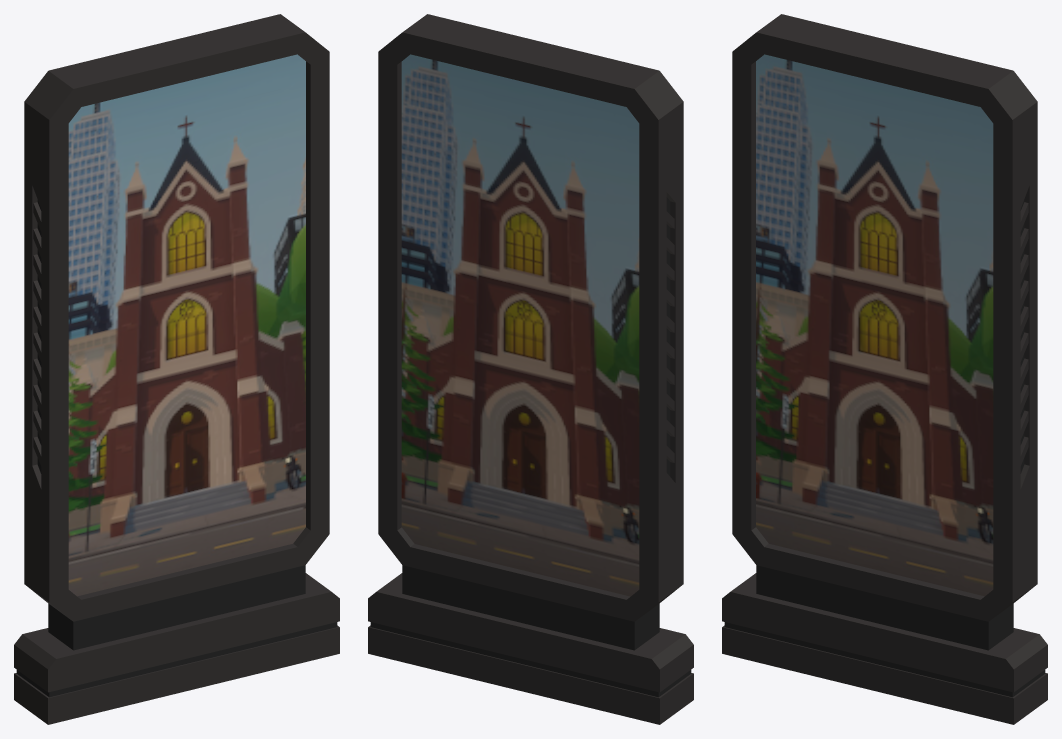
File: SM_Props_Ads_02.fbx
The picture shows the model from 3 angles, left to right: view 1: azimuth 30°, elevation 25°; view 2: azimuth 150°, elevation 25°; view 3: azimuth 330°, elevation 25°; orthographic projection.
Parts seen in each view (by area): view 1: SM_Props_Ads_02; view 2: SM_Props_Ads_02; view 3: SM_Props_Ads_02.
Boxes of the visible parts, x1,y1,x2,y2 form: SM_Props_Ads_02: (14,14,339,724); SM_Props_Ads_02: (368,14,693,724); SM_Props_Ads_02: (722,14,1047,724).
Bounding box in the file's own units: 0.9367 × 1.92 × 0.1891.
